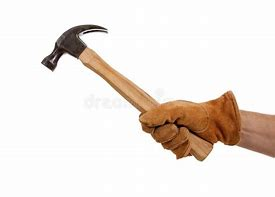hammer: (39, 23, 215, 163)
